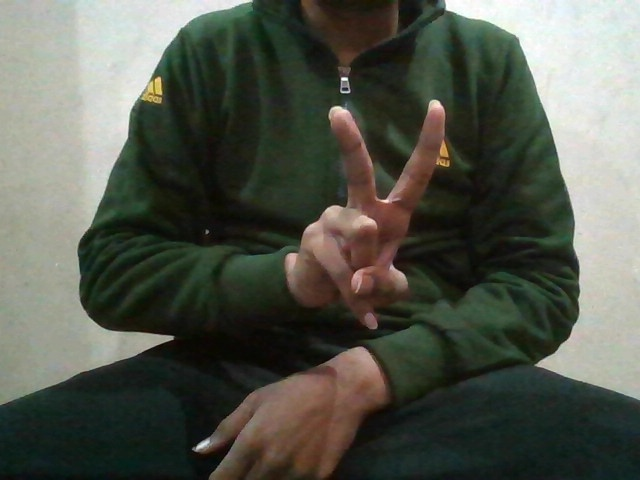V: (293, 91, 452, 331)
